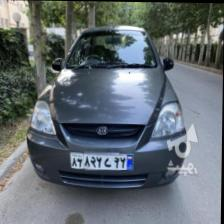plate: (71, 152, 134, 168)
